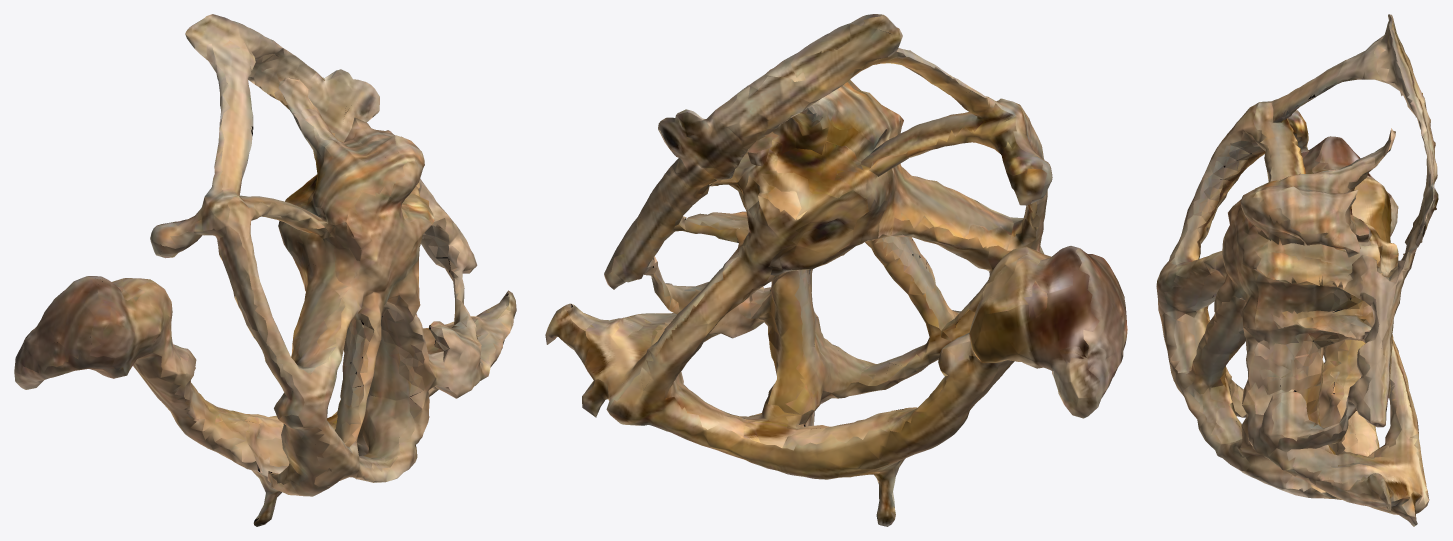
File: 15_09_31_21_a-single-brass-sextant.glb
The picture shows the model from 3 angles, left to right: view 1: azimuth 30°, elevation 25°; view 2: azimuth 150°, elevation 25°; view 3: azimuth 270°, elevation 25°; orthographic projection. The views are drawn at different scales.
Parts seen in each view (by area): view 1: world; view 2: world; view 3: world.
Part boxes in pixels (x1=…): world: x1=14, y1=14, x2=516, y2=526; world: x1=545, y1=14, x2=1127, y2=526; world: x1=1156, y1=14, x2=1438, y2=526.
Size of the model in its own units: 0.9086 by 0.8502 by 0.4646.
Materials: 1 (1 with a texture image).
